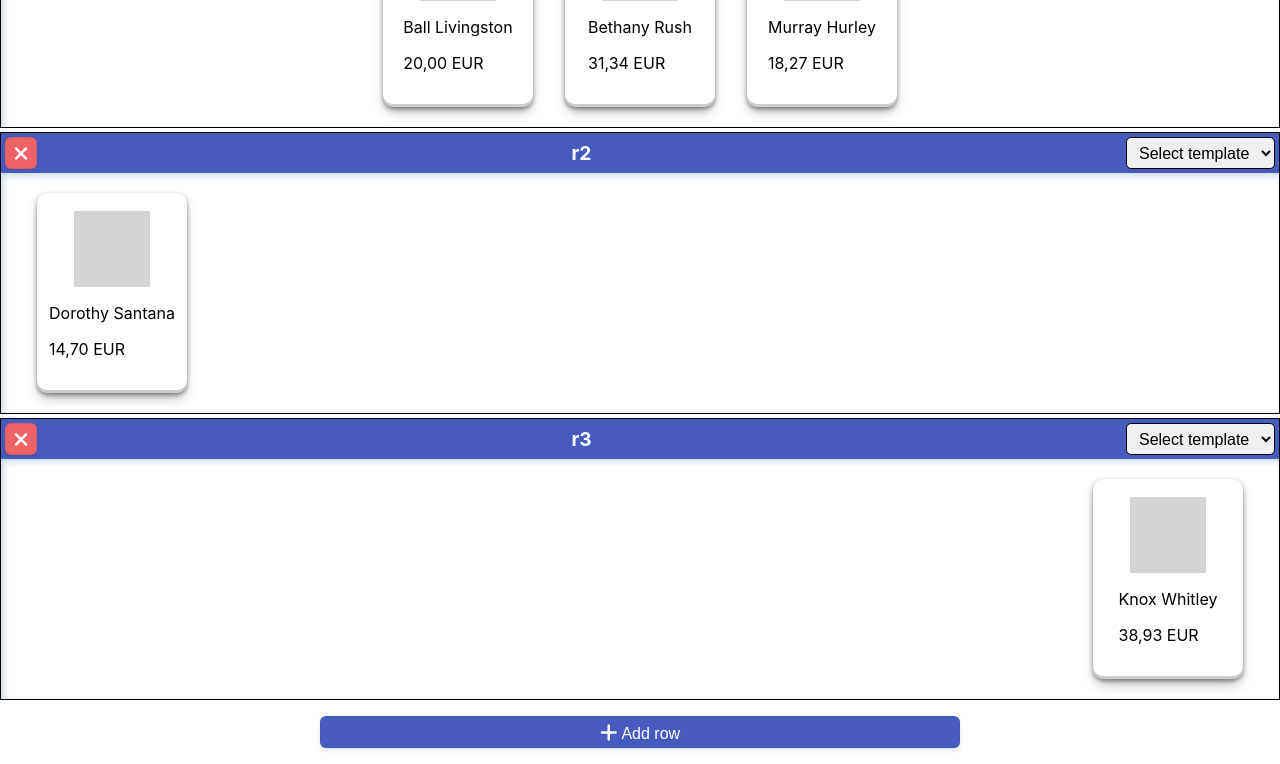
DraggableGrid › can delete a row
The width and height of the screenshot is (1280, 764).
(page scrolled)
Click the button "Add row": (640, 732) top-left (320, 716), bottom-right (960, 748)
(page scrolled)
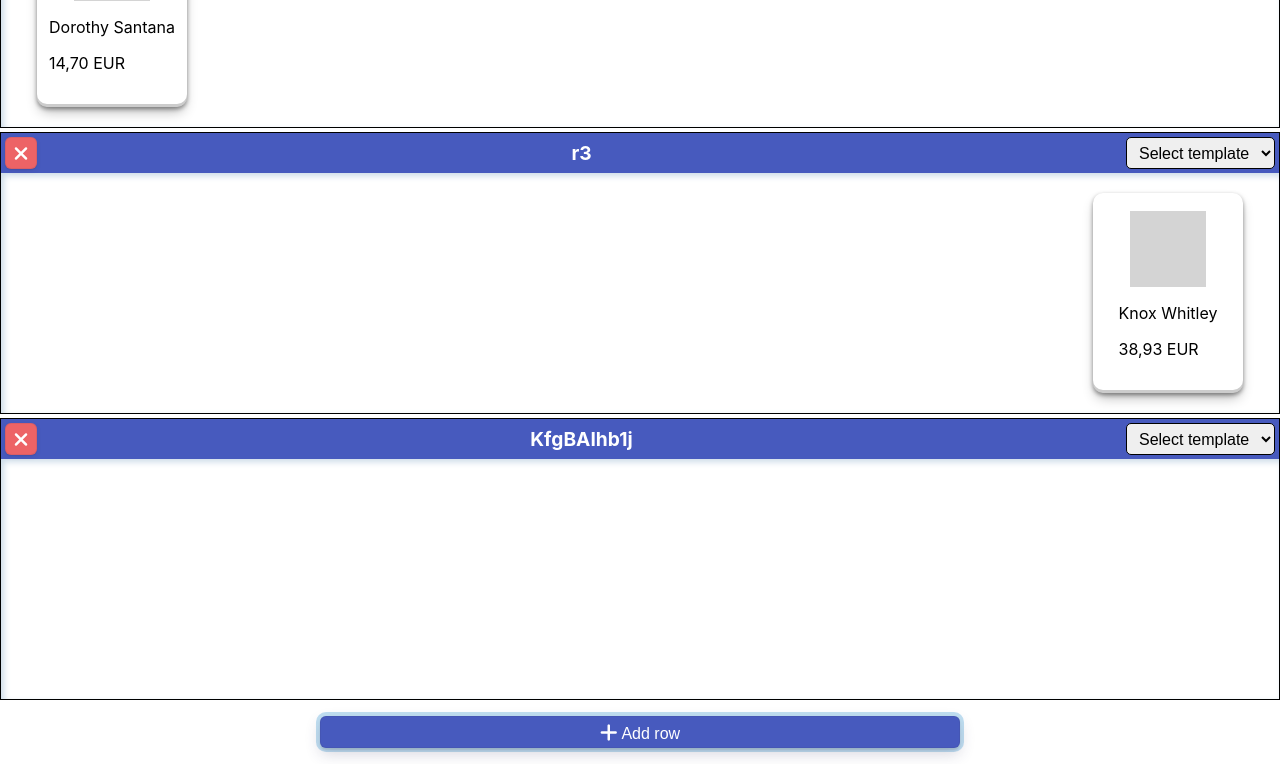
Click the 2nd button named "Delete row": (21, 439) top-left (5, 423), bottom-right (37, 455)
(page scrolled)
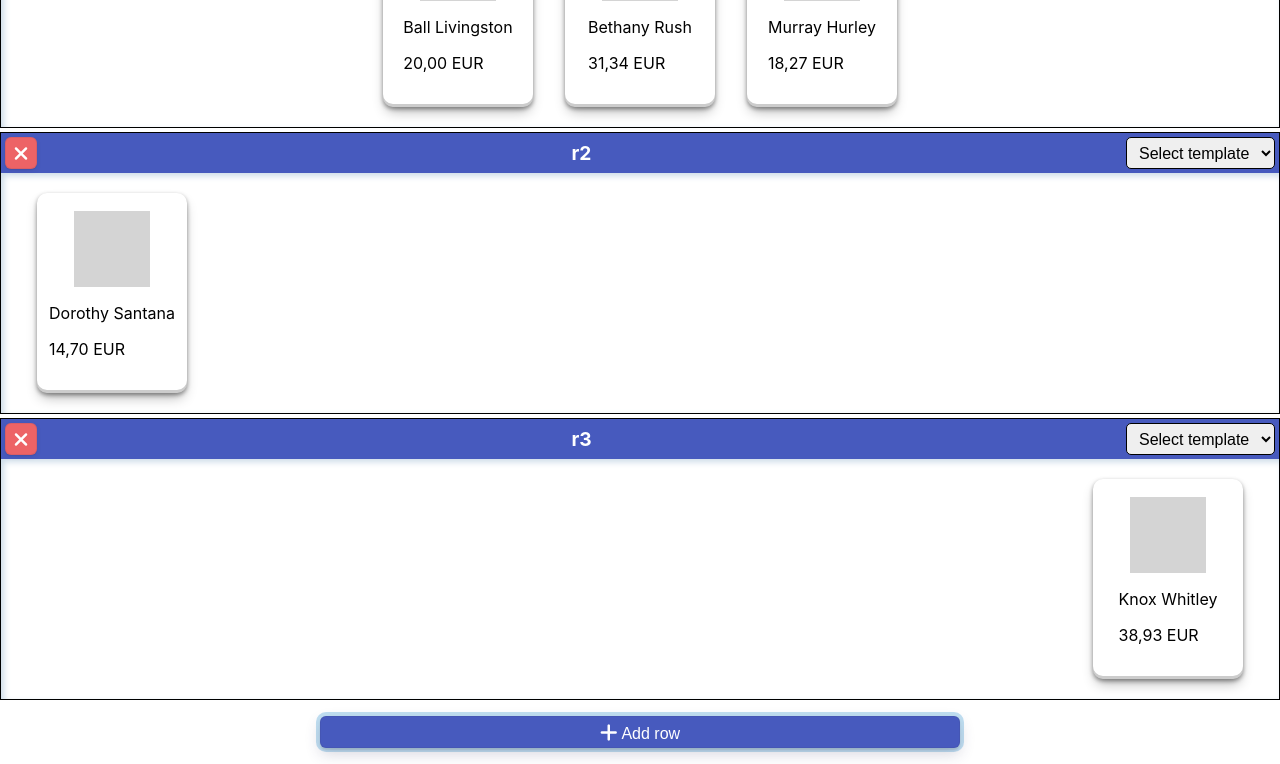
Now the number of fields labelled "Delete row" is 3
